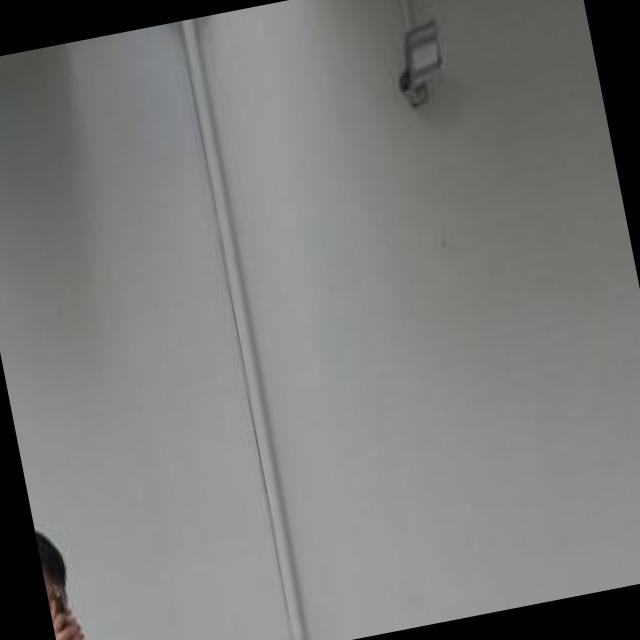Guns: (45, 577, 92, 640)
